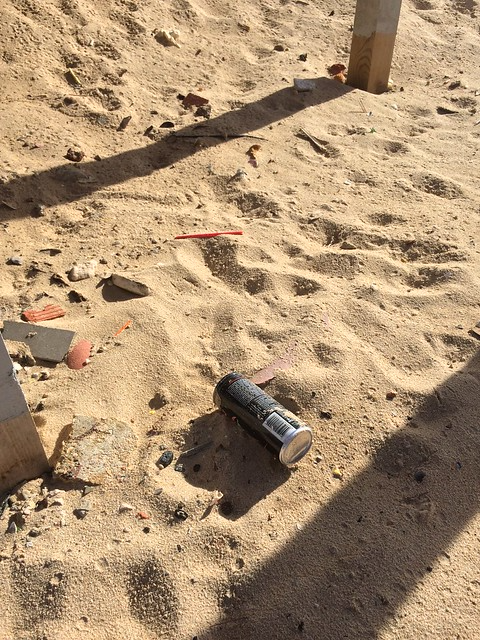can: (211, 365, 313, 468)
